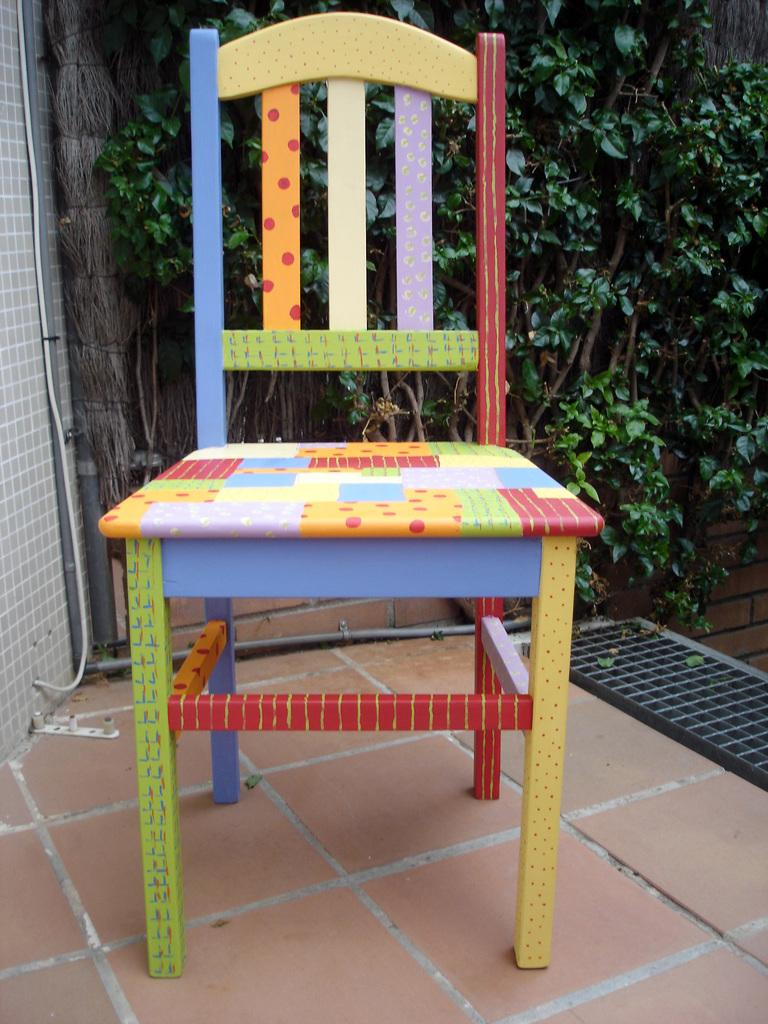Chair: (97, 4, 611, 983)
